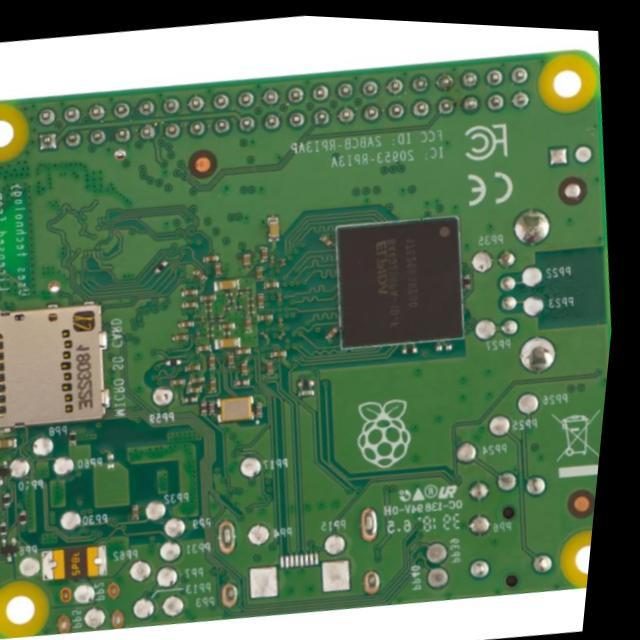Raspberry-Pi-3-A-: (1, 48, 610, 639)
